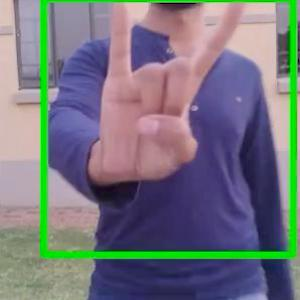takeoff-hand: (109, 0, 251, 185)
